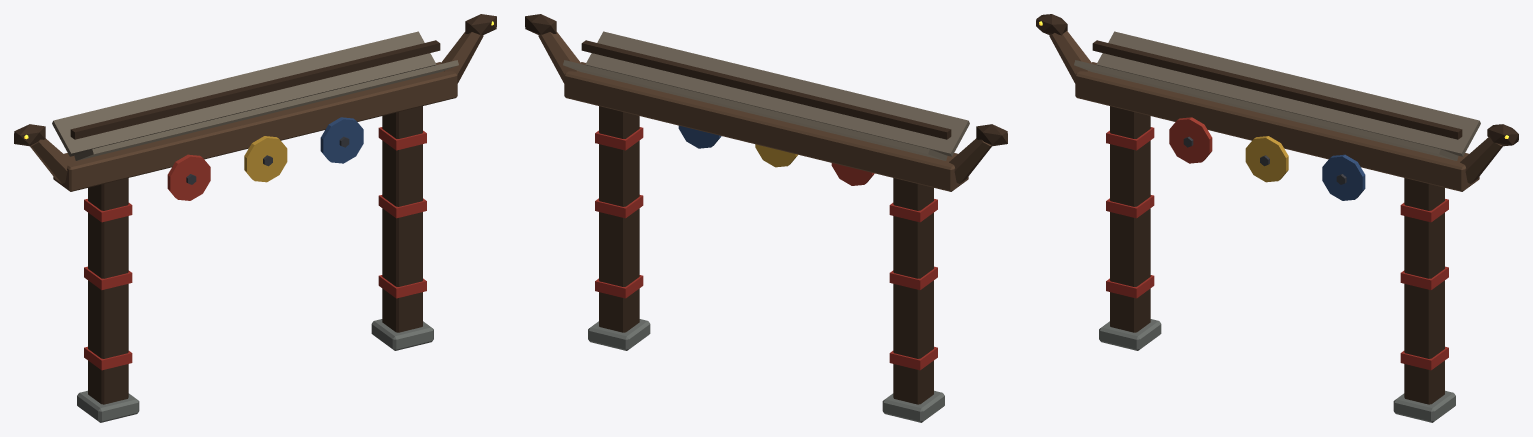
The model's file is forest_gate.glb.
3 renders of one model, left to right at view 1: azimuth 30°, elevation 25°; view 2: azimuth 150°, elevation 25°; view 3: azimuth 330°, elevation 25°, orthographic.
Visible parts, largest first — view 1: forest_gate; view 2: forest_gate; view 3: forest_gate.
Part boxes in pixels (<box>): forest_gate: <box>14,14,496,422</box>; forest_gate: <box>525,14,1007,422</box>; forest_gate: <box>1036,14,1518,422</box>.
Bounding box in the file's own units: 8.2 × 4.96 × 1.23.
